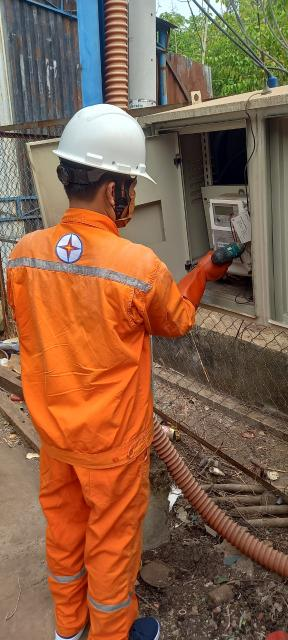gloves: (164, 233, 238, 317)
helmet: (37, 97, 173, 192)
shoes: (101, 603, 178, 640), (34, 602, 94, 640)
